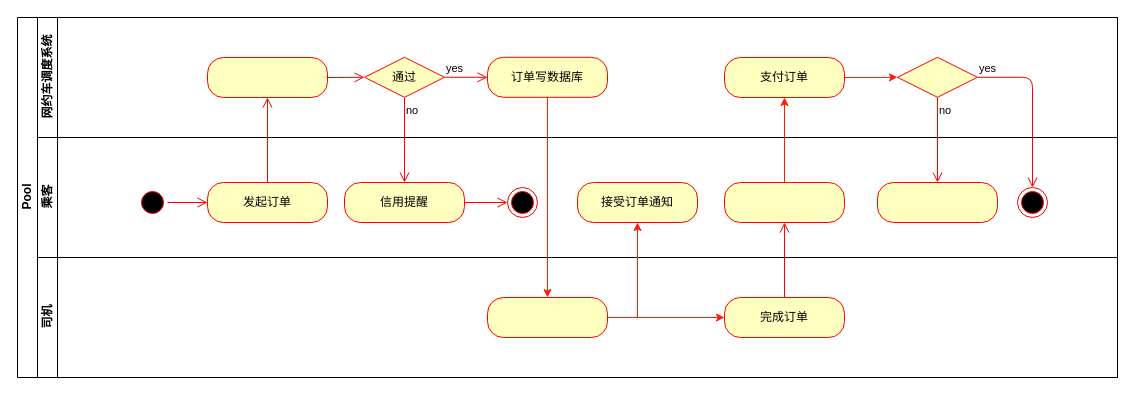
The diagram is 1135 pixels wide and 395 high, and some of its shapes have lost their labels. Each missing label, with the centre of its shape:
信用状况审核: [267,77]
待支付通知: [784,202]
接受订单: [547,317]
支付失败通知: [937,202]
支付成功: [937,76]
